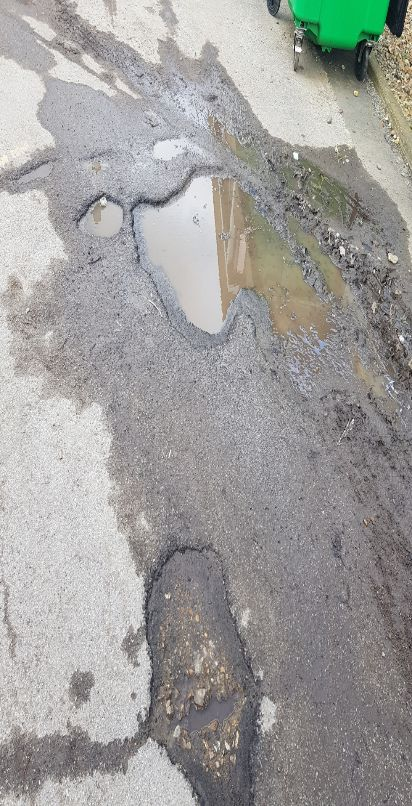pothole: (127, 154, 348, 352), (132, 541, 268, 806), (74, 195, 124, 244)
